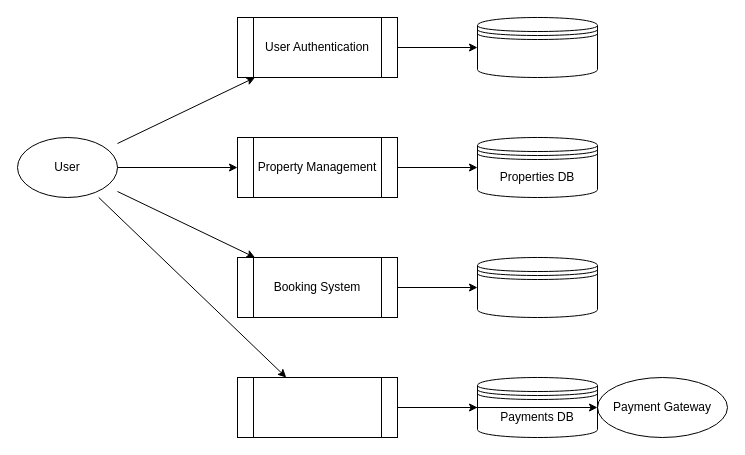
This 745x455 diagram has some shape labels left out. The shapes that lost their labels are listed below. From the top down, each one's box as (x1, y1, x2, y2) in pixels, then its label:
(476, 16, 598, 78): Users DB
(476, 256, 598, 318): Bookings DB
(236, 376, 398, 438): Payment Processing
